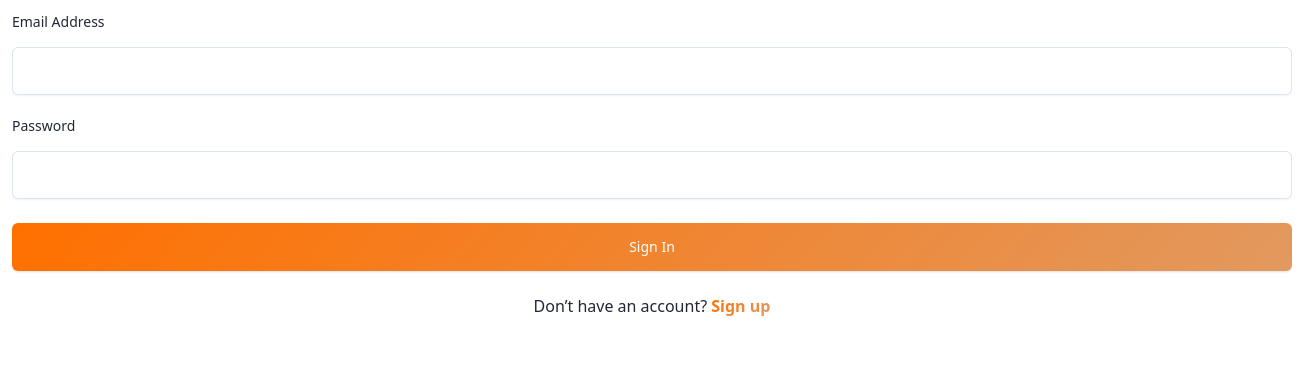
AuthForm › Sign In Form › Validation › should show error message for invalid email
The width and height of the screenshot is (1304, 370).
Type "tesxamplcom" into the field labelled "Email Address" at point(652, 71), box [12,47,1292,95]
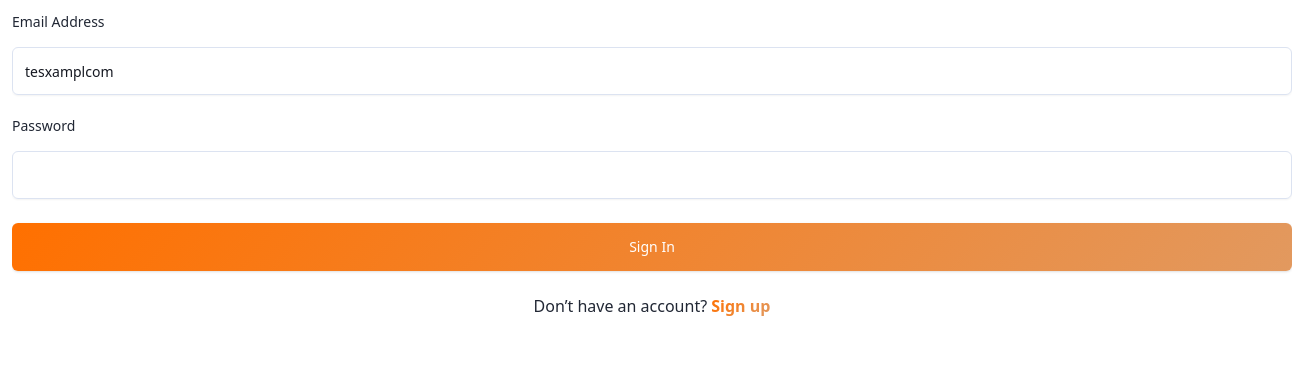
Type "pasaaaaaa" into the password field labelled "Password" at point(652, 175), box [12,151,1292,199]
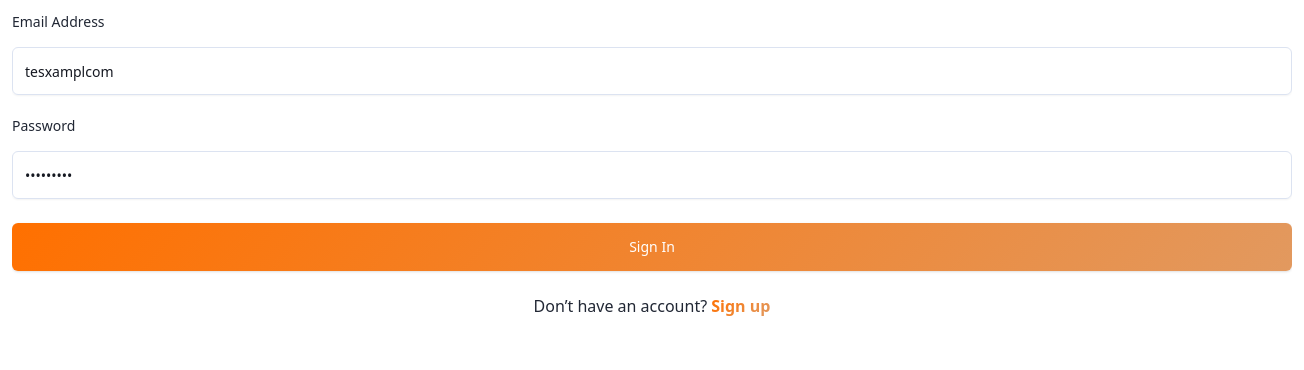
Click the button "Sign In" at point(652, 247), box [12,223,1292,271]
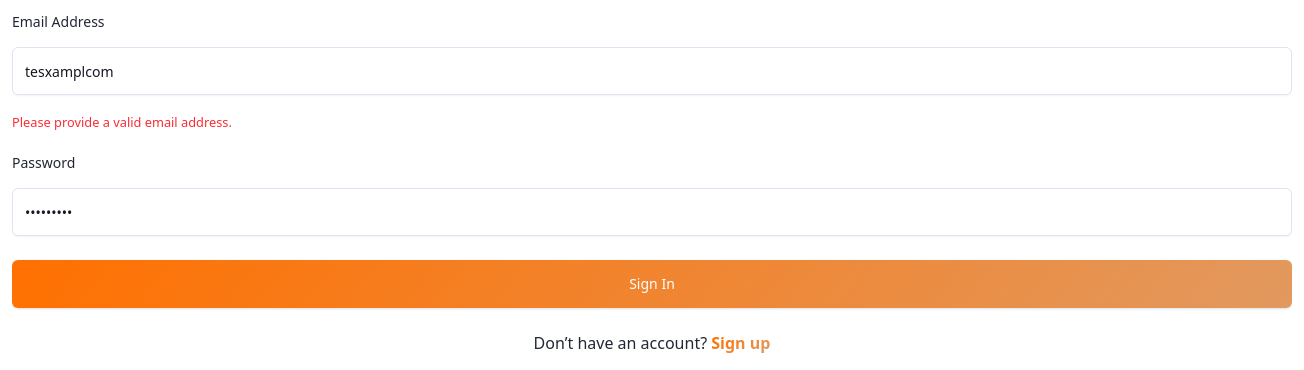
Result: the text "Please provide a valid email address." is shown at [12,113,232,131]
